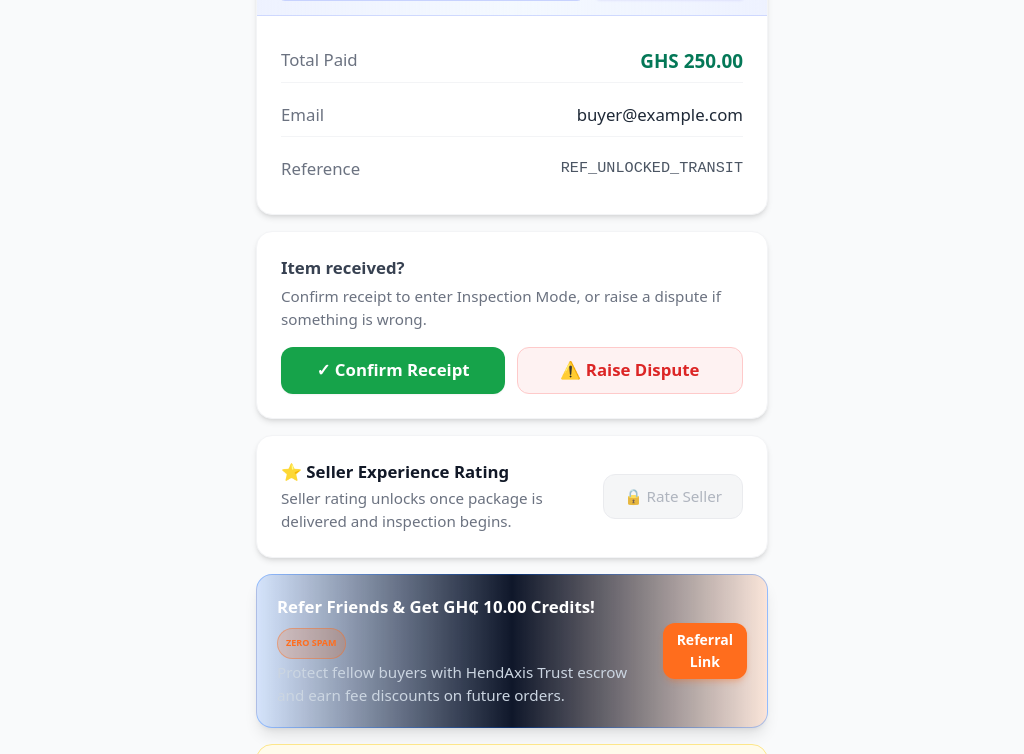
Test: PublicCheckoutView Integration Tests › filters dispute categories to non-delivery options and displays in-transit banner when unlocked in transit
(page scrolled)
Check: the heading "Item received?" is shown, box [281, 256, 404, 279]
What coordinates should you click on to do the following:
click the button "⚠ Raise Dispute"
I would click on:
 (630, 370)
Its box is [517, 347, 743, 394].
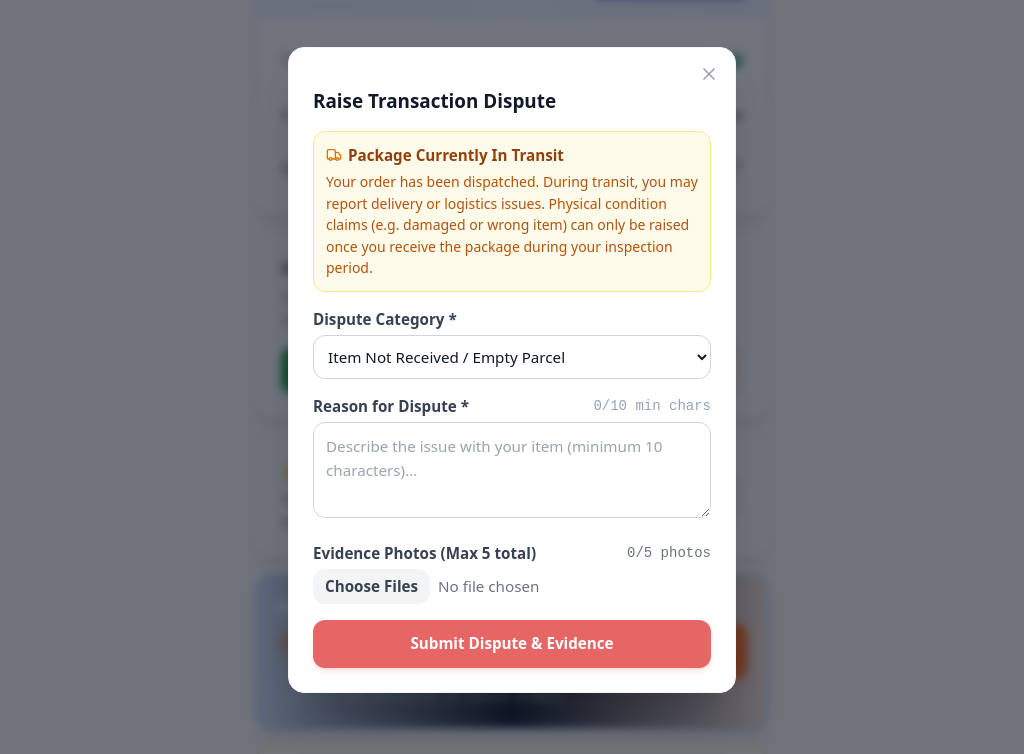
Check: the heading "Raise Transaction Dispute" is shown, box [313, 88, 556, 114]
Check: the text "Package Currently In Transit" is shown, box [326, 145, 564, 165]
